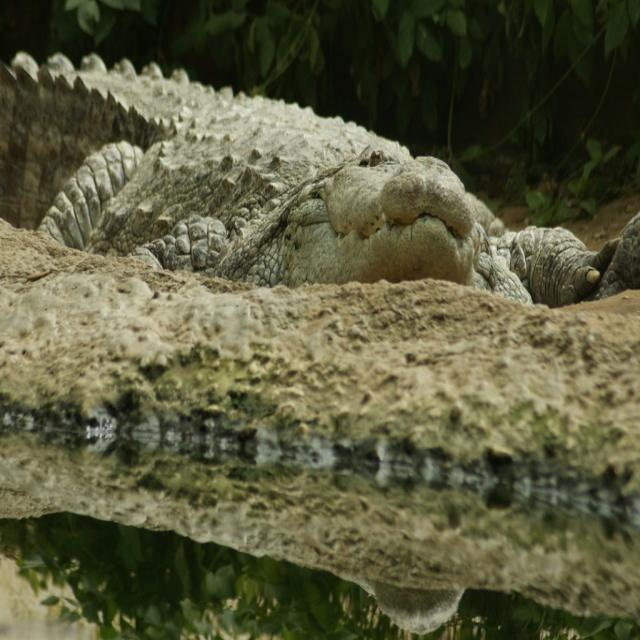crocodile: (0, 59, 614, 293)
